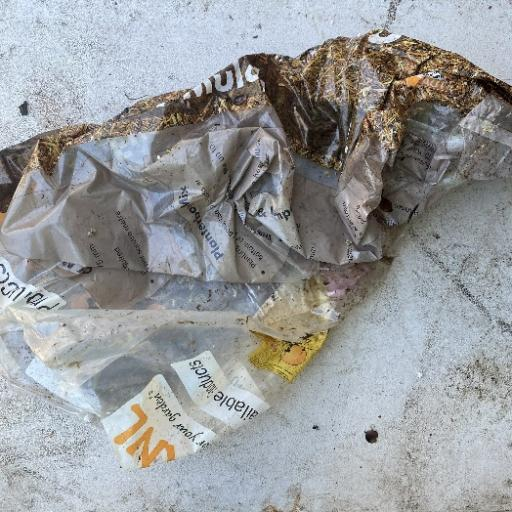Plastic: (1, 27, 509, 471)
